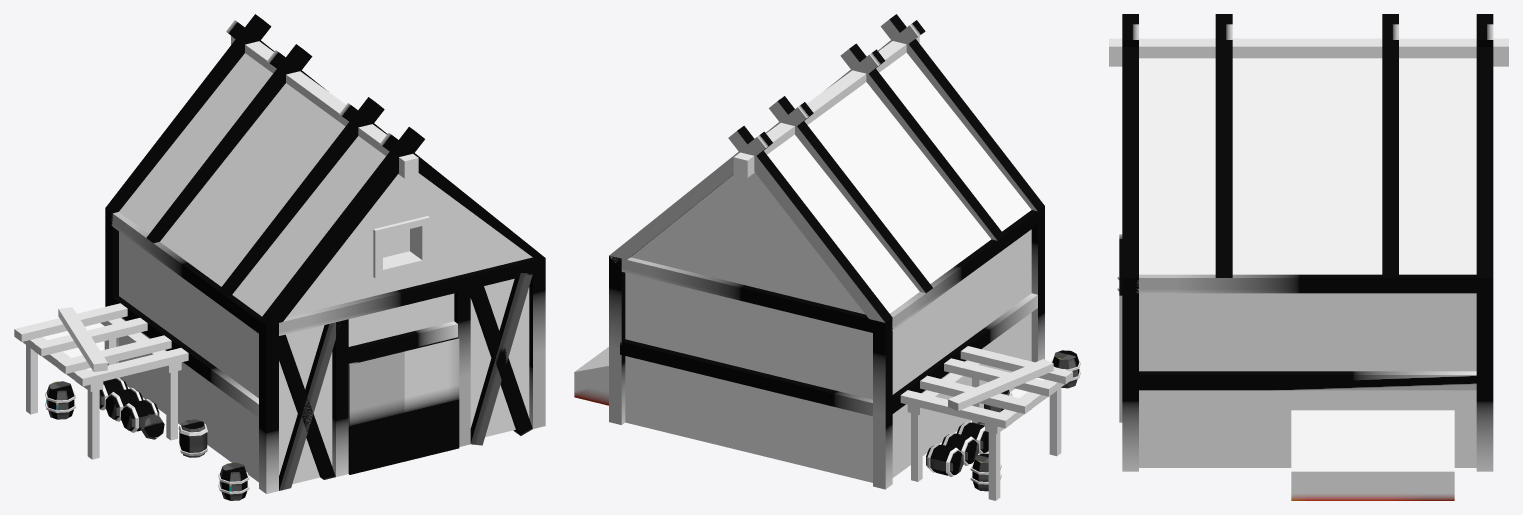
Rendered from WareHouseV2.fbx.
3 views of the same model, side by side, from view 1: azimuth 30°, elevation 25°; view 2: azimuth 150°, elevation 25°; view 3: azimuth 270°, elevation 25° (orthographic). The views are drawn at different scales.
Parts seen in each view (by area): view 1: Warehouse; view 2: Warehouse; view 3: Warehouse.
Part boxes in pixels (x1=…): Warehouse: x1=14, y1=14, x2=545, y2=500; Warehouse: x1=574, y1=14, x2=1080, y2=500; Warehouse: x1=1109, y1=14, x2=1508, y2=500.
Bounding box in the file's own units: 492 × 355 × 338.
Materials: 1 (1 with a texture image).
